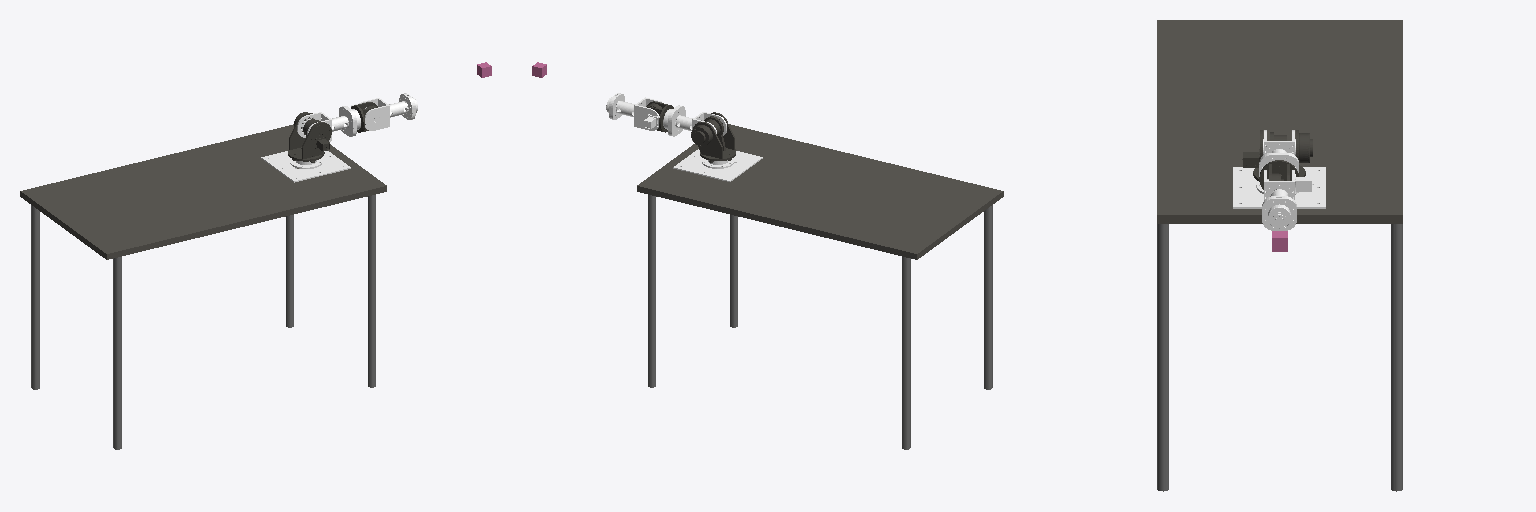
The robot description file, URDF, robot "daadbot":
<?xml version='1.0' encoding='utf-8'?>
<robot name="daadbot">
  <gazebo>
    <plugin filename="gz_ros2_control-system" name="gz_ros2_control::GazeboSimROS2ControlPlugin">
      <parameters>/home/maryammahmood/daadbot_manipulator_ws/install/daadbot_controller/share/daadbot_controller/config/pos_trajectory_controller.yaml</parameters>
    </plugin>
    <plugin filename="ignition-gazebo-forcetorque-system" name="ignition::gazebo::systems::ForceTorque">
            </plugin>
  </gazebo>
  <ros2_control name="Manipulator" type="system">
    <hardware>
      <plugin>gz_ros2_control/GazeboSimSystem</plugin>
    </hardware>
    <joint name="joint_1">
      <command_interface name="position">
        <param name="min">-0.1</param>
        <param name="max">3.2</param>
      </command_interface>
      <state_interface name="position" />
      <state_interface name="velocity" />
      <state_interface name="effort" />
    </joint>
    <joint name="joint_2">
      <command_interface name="position">
        <param name="min">-3.307</param>
        <param name="max">0.5236</param>
      </command_interface>
      <state_interface name="position" />
      <state_interface name="velocity" />
      <state_interface name="effort" />
    </joint>
    <joint name="joint_3">
      <command_interface name="position">
        <param name="min">-0.1</param>
        <param name="max">3.2</param>
      </command_interface>
      <state_interface name="position" />
      <state_interface name="velocity" />
      <state_interface name="effort" />
    </joint>
    <joint name="joint_4">
      <command_interface name="position">
        <param name="min">-1.9199</param>
        <param name="max">1.9199</param>
      </command_interface>
      <state_interface name="position" />
      <state_interface name="velocity" />
      <state_interface name="effort" />
    </joint>
  </ros2_control>
  <link name="table_top">
    <visual>
      <origin xyz="0 0 1.0" />
      <geometry>
        <box size="1.5 0.8 0.03" />
      </geometry>
      <material name="">
        <color rgba="0.388 0.376 0.357 1" />
      </material>
    </visual>
    <collision>
      <origin xyz="0 0 1.0" />
      <geometry>
        <box size="1.5 0.8 0.03" />
      </geometry>
    </collision>
    <inertial>
      <origin xyz="0 0 1.0" />
      <mass value="5.0" />
      <inertia ixx="0.1" ixy="0" ixz="0" iyy="0.1" iyz="0" izz="0.1" />
    </inertial>
  </link>
  <gazebo reference="table_top">
    <static>true</static>
    <surface>
      <contact>
        <ode>
          <kp>100000.0</kp>
          <kd>1000.0</kd>
        </ode>
      </contact>
      <friction>
        <ode>
          <mu>1.0</mu>
          <mu2>1.0</mu2>
        </ode>
      </friction>
    </surface>
  </gazebo>
  <link name="front_left_leg">
    <visual>
      <origin xyz="0 0 0.5" />
      <geometry>
        <cylinder length="1.0" radius="0.02" />
      </geometry>
      <material name="">
        <color rgba="0.5 0.5 0.5 1" />
      </material>
    </visual>
    <collision>
      <origin xyz="0 0 0.5" />
      <geometry>
        <cylinder length="1.0" radius="0.02" />
      </geometry>
    </collision>
    <inertial>
      <origin xyz="0 0 0.5" />
      <mass value="1.0" />
      <inertia ixx="0.01" ixy="0" ixz="0" iyy="0.01" iyz="0" izz="0.01" />
    </inertial>
  </link>
  <joint name="front_left_leg_joint" type="fixed">
    <parent link="table_top" />
    <child link="front_left_leg" />
    <origin xyz="0.68 0.38 0.0" />
  </joint>
  <link name="front_right_leg">
    <visual>
      <origin xyz="0 0 0.5" />
      <geometry>
        <cylinder length="1.0" radius="0.02" />
      </geometry>
      <material name="">
        <color rgba="0.5 0.5 0.5 1" />
      </material>
    </visual>
    <collision>
      <origin xyz="0 0 0.5" />
      <geometry>
        <cylinder length="1.0" radius="0.02" />
      </geometry>
    </collision>
    <inertial>
      <origin xyz="0 0 0.5" />
      <mass value="1.0" />
      <inertia ixx="0.01" ixy="0" ixz="0" iyy="0.01" iyz="0" izz="0.01" />
    </inertial>
  </link>
  <joint name="front_right_leg_joint" type="fixed">
    <parent link="table_top" />
    <child link="front_right_leg" />
    <origin xyz="0.68 -0.38 0.0" />
  </joint>
  <link name="back_left_leg">
    <visual>
      <origin xyz="0 0 0.5" />
      <geometry>
        <cylinder length="1.0" radius="0.02" />
      </geometry>
      <material name="">
        <color rgba="0.5 0.5 0.5 1" />
      </material>
    </visual>
    <collision>
      <origin xyz="0 0 0.5" />
      <geometry>
        <cylinder length="1.0" radius="0.02" />
      </geometry>
    </collision>
    <inertial>
      <origin xyz="0 0 0.5" />
      <mass value="1.0" />
      <inertia ixx="0.01" ixy="0" ixz="0" iyy="0.01" iyz="0" izz="0.01" />
    </inertial>
  </link>
  <joint name="back_left_leg_joint" type="fixed">
    <parent link="table_top" />
    <child link="back_left_leg" />
    <origin xyz="-0.68 0.38 0.0" />
  </joint>
  <link name="back_right_leg">
    <visual>
      <origin xyz="0 0 0.5" />
      <geometry>
        <cylinder length="1.0" radius="0.02" />
      </geometry>
      <material name="">
        <color rgba="0.5 0.5 0.5 1" />
      </material>
    </visual>
    <collision>
      <origin xyz="0 0 0.5" />
      <geometry>
        <cylinder length="1.0" radius="0.02" />
      </geometry>
    </collision>
    <inertial>
      <origin xyz="0 0 0.5" />
      <mass value="1.0" />
      <inertia ixx="0.01" ixy="0" ixz="0" iyy="0.01" iyz="0" izz="0.01" />
    </inertial>
  </link>
  <joint name="back_right_leg_joint" type="fixed">
    <parent link="table_top" />
    <child link="back_right_leg" />
    <origin xyz="-0.68 -0.38 0.0" />
  </joint>
  <link name="world" />
  <joint name="table_joint" type="fixed">
    <parent link="world" />
    <child link="table_top" />
    <origin rpy="0 0 0" xyz="0 0 0" />
  </joint>
  <link name="camera_link">
    <visual>
      <geometry>
        <box size="0.05 0.05 0.05" />
      </geometry>
      <material name="" />
    </visual>
  </link>
  <joint name="camera_joint" type="fixed">
    <parent link="table_top" />
    <child link="camera_link" />
    <origin rpy="0 0 0" xyz="1.5 0.0 1.27" />
  </joint>
  <joint name="base_joint" type="fixed">
    <parent link="table_top" />
    <child link="base_link" />
    <origin rpy="0 0 0" xyz="0.55 0 1.017" />
  </joint>
  <link name="base_link">
    <inertial>
      <origin rpy="0 0 0" xyz="-0.00246645540256236 -0.00131466478904116 0.00320374562257973" />
      <mass value="6.91122989464636" />
      <inertia ixx="0.0466171750852481" ixy="0.00010076855342015" ixz="5.14819747192778E-08" iyy="0.0464821203083076" iyz="-1.44621889265211E-07" izz="0.0929840869855057" />
    </inertial>
    <visual>
      <origin rpy="0 0 0" xyz="0 0 0" />
      <geometry>
        <mesh filename="package://daadbot_desc/meshes/base_link.STL" />
      </geometry>
      <material name="">
        <color rgba="1 1 1 1" />
      </material>
    </visual>
    <collision>
      <origin rpy="0 0 0" xyz="0 0 0" />
      <geometry>
        <mesh filename="package://daadbot_desc/meshes/base_link.STL" />
      </geometry>
    </collision>
  </link>
  <link name="Link_1">
    <inertial>
      <origin rpy="0 0 0" xyz="0.0222146013900772 2.73568109690481E-06 0.0747841784291177" />
      <mass value="2.34948803406793" />
      <inertia ixx="0.00332922517000865" ixy="1.64875308454708E-07" ixz="-0.000433929392474112" iyy="0.00524724735039028" iyz="2.38505609352415E-07" izz="0.00419520671173006" />
    </inertial>
    <visual>
      <origin rpy="0 0 0" xyz="0 0 0" />
      <geometry>
        <mesh filename="package://daadbot_desc/meshes/Link_1.STL" />
      </geometry>
      <material name="">
        <color rgba="0.329 0.322 0.302 1" />
      </material>
    </visual>
    <collision>
      <origin rpy="0 0 0" xyz="0 0 0" />
      <geometry>
        <mesh filename="package://daadbot_desc/meshes/Link_1.STL" />
      </geometry>
    </collision>
  </link>
  <joint name="joint_1" type="revolute">
    <origin rpy="0 0 0" xyz="-0.0029638 -0.0015759 0.04796" />
    <parent link="base_link" />
    <child link="Link_1" />
    <axis xyz="0 0 -1" />
    <limit effort="200.0" lower="-0.1" upper="3.2" velocity="12.776" />
  </joint>
  <link name="daadbot/joint_1/tcp_fts_sensor_joint_1" />
  <joint name="tcp_fts_joint_1" type="fixed">
    <parent link="base_link" />
    <child link="daadbot/joint_1/tcp_fts_sensor_joint_1" />
    <origin rpy="0 0 0" xyz="-0.0029638 -0.0015759 0.04796" />
  </joint>
  <gazebo reference="joint_1">
    <sensor name="tcp_fts_sensor_joint_1" type="force_torque">
      <always_on>true</always_on>
      <update_rate>1000</update_rate>
      <visualize>true</visualize>
      <force_torque>
        <frame>child</frame>
        <measure_direction>child_to_parent</measure_direction>
      </force_torque>
      <pose>0 0 0 0 0 0</pose>
    </sensor>
  </gazebo>
  <link name="Link_2">
    <inertial>
      <origin rpy="0 0 0" xyz="0.121210588587965 0.000230649813345946 -0.049540637756618" />
      <mass value="2.24401700155026" />
      <inertia ixx="0.00250860362" ixy="-1.95804141e-05" ixz="1.06350024e-06" iyy="0.00852523380" iyz="4.22077320e-07" izz="0.00807927033" />
    </inertial>
    <visual>
      <origin rpy="0 0 0" xyz="0 0 0" />
      <geometry>
        <mesh filename="package://daadbot_desc/meshes/Link_2.STL" />
      </geometry>
      <material name="">
        <color rgba="1 1 1 1" />
      </material>
    </visual>
    <collision>
      <origin rpy="0 0 0" xyz="0 0 0" />
      <geometry>
        <mesh filename="package://daadbot_desc/meshes/Link_2.STL" />
      </geometry>
    </collision>
  </link>
  <joint name="joint_2" type="revolute">
    <origin rpy="1.5707963267949 0 0" xyz="0.0400000000000002 -0.050000000000002 0.114463048454132" />
    <parent link="Link_1" />
    <child link="Link_2" />
    <axis xyz="0 0 -1" />
    <limit effort="200.0" lower="-3.307" upper="0.5236" velocity="12.776" />
    <sensor name="force_torque" type="force_torque">
      <update_rate>30</update_rate>
    </sensor>
  </joint>
  <link name="daadbot/joint_2/tcp_fts_sensor_joint_2" />
  <joint name="tcp_fts_joint_2" type="fixed">
    <parent link="Link_1" />
    <child link="daadbot/joint_2/tcp_fts_sensor_joint_2" />
    <origin rpy="1.5707963267949 0 0" xyz="0.04 -0.05 0.114463048454132" />
  </joint>
  <gazebo reference="joint_2">
    <sensor name="tcp_fts_sensor_joint_2" type="force_torque">
      <always_on>true</always_on>
      <update_rate>100</update_rate>
      <visualize>false</visualize>
      <force_torque>
        <frame>child</frame>
        <measure_direction>child_to_parent</measure_direction>
      </force_torque>
      <pose>0 0 0 0 0 0</pose>
    </sensor>
  </gazebo>
  <link name="Link_3">
    <inertial>
      <origin rpy="0 0 0" xyz="-0.00448997206818821 -2.34751712904213E-05 0.0488571768392556" />
      <mass value="1.2718719681393" />
      <inertia ixx="0.00206983011422612" ixy="9.27500479472452E-08" ixz="3.38378548754623E-06" iyy="0.00129565231901482" iyz="2.88989653562542E-07" izz="0.00156994991003151" />
    </inertial>
    <visual>
      <origin rpy="0 0 0" xyz="0 0 0" />
      <geometry>
        <mesh filename="package://daadbot_desc/meshes/Link_3.STL" />
      </geometry>
      <material name="">
        <color rgba="0.329 0.322 0.302 1" />
      </material>
    </visual>
    <collision>
      <origin rpy="0 0 0" xyz="0 0 0" />
      <geometry>
        <mesh filename="package://daadbot_desc/meshes/Link_3.STL" />
      </geometry>
    </collision>
  </link>
  <joint name="joint_3" type="revolute">
    <origin rpy="0 1.5707963267949 0" xyz="0.234499999999998 0 -0.0495000000000002" />
    <parent link="Link_2" />
    <child link="Link_3" />
    <axis xyz="0 0 -1" />
    <limit effort="200.0" lower="-0.1" upper="3.2" velocity="12.776" />
  </joint>
  <link name="daadbot/joint_3/tcp_fts_sensor_joint_3" />
  <joint name="tcp_fts_joint_3" type="fixed">
    <parent link="Link_2" />
    <child link="daadbot/joint_3/tcp_fts_sensor_joint_3" />
    <origin rpy="0 1.5707963267949 0" xyz="0.234499999999998 0 -0.04950000000000022" />
  </joint>
  <gazebo reference="joint_3">
    <sensor name="tcp_fts_sensor_joint_3" type="force_torque">
      <always_on>true</always_on>
      <update_rate>1000</update_rate>
      <visualize>true</visualize>
      <force_torque>
        <frame>child</frame>
        <measure_direction>child_to_parent</measure_direction>
      </force_torque>
      <pose>0 0 0 0 0 0</pose>
    </sensor>
  </gazebo>
  <link name="Link_4">
    <inertial>
      <origin rpy="0 0 0" xyz="-0.119169680650385 -0.000128811902195713 0.0378163924527294" />
      <mass value="2.67615775175726" />
      <inertia ixx="0.00308017562479927" ixy="2.47453551729311E-06" ixz="-7.09348932448939E-07" iyy="0.00238129778603005" iyz="-7.47320677385655E-07" izz="0.00293128138362422" />
    </inertial>
    <visual>
      <origin rpy="0 0 0" xyz="0 0 0" />
      <geometry>
        <mesh filename="package://daadbot_desc/meshes/Link_4.STL" />
      </geometry>
      <material name="">
        <color rgba="1 1 1 1" />
      </material>
    </visual>
    <collision>
      <origin rpy="0 0 0" xyz="0 0 0" />
      <geometry>
        <mesh filename="package://daadbot_desc/meshes/Link_4.STL" />
      </geometry>
    </collision>
  </link>
  <joint name="joint_4" type="revolute">
    <origin rpy="0 1.5707963267949 0" xyz="-0.0324999999999996 0 0.0750000000000004" />
    <parent link="Link_3" />
    <child link="Link_4" />
    <axis xyz="0 0 -1" />
    <limit effort="200.0" lower="-1.9199" upper="1.9199" velocity="12.77581" />
  </joint>
  <link name="daadbot/joint_4/tcp_fts_sensor_joint_4" />
  <joint name="tcp_fts_joint_4" type="fixed">
    <parent link="Link_3" />
    <child link="daadbot/joint_4/tcp_fts_sensor_joint_4" />
    <origin rpy="0 1.5707963267949 0" xyz="-0.0324999999999996 0 0.0750000000000004" />
  </joint>
  <gazebo reference="joint_4">
    <sensor name="tcp_fts_sensor_joint_4" type="force_torque">
      <always_on>true</always_on>
      <update_rate>1000</update_rate>
      <visualize>true</visualize>
      <force_torque>
        <frame>child</frame>
        <measure_direction>child_to_parent</measure_direction>
      </force_torque>
      <pose>0 0 0 0 0 0</pose>
    </sensor>
  </gazebo>
</robot>

--- What the picture shows (computed from the rendered views, not written in the file) ---
3 views of the same robot in one strip: view 1: azimuth 30°, elevation 25°; view 2: azimuth 150°, elevation 25°; view 3: azimuth 270°, elevation 25° (orthographic).
Model daadbot with 16 links and 15 joints (4 revolute, 11 fixed), rooted at world, posed every joint at zero.
Visible links, largest first — view 1: table_top, back_right_leg, back_left_leg, front_right_leg, Link_1, base_link, Link_4, Link_2, front_left_leg; view 2: table_top, back_left_leg, back_right_leg, front_left_leg, Link_1, base_link, Link_4, front_right_leg, Link_2; view 3: table_top, front_left_leg, front_right_leg, base_link, Link_4, Link_1, Link_2, Link_3.
Boxes of the visible links, x1,y1,x2,y2 form: table_top: (20,124,386,259); back_right_leg: (113,257,121,449); back_left_leg: (31,205,39,389); front_right_leg: (368,195,375,387); Link_1: (288,112,331,162); base_link: (261,151,350,182); Link_4: (351,93,417,130); Link_2: (297,106,360,141); front_left_leg: (286,215,293,327); table_top: (637,124,1003,259); back_left_leg: (902,257,910,449); back_right_leg: (984,205,992,389); front_left_leg: (648,195,655,387); Link_1: (691,112,735,162); base_link: (673,149,762,181); Link_4: (606,93,664,130); front_right_leg: (730,215,737,327); Link_2: (663,105,726,140); table_top: (1157,20,1402,223); front_left_leg: (1391,224,1402,491); front_right_leg: (1157,224,1168,491); base_link: (1233,167,1325,208); Link_4: (1262,170,1313,230); Link_1: (1242,130,1312,181); Link_2: (1259,130,1298,176); Link_3: (1259,160,1298,189).
Bounding box of the posed robot: 2.27 × 0.8 × 1.29 m (x, y, z).
5 mesh visuals loaded from 5 distinct referenced files (5 binary STL).
